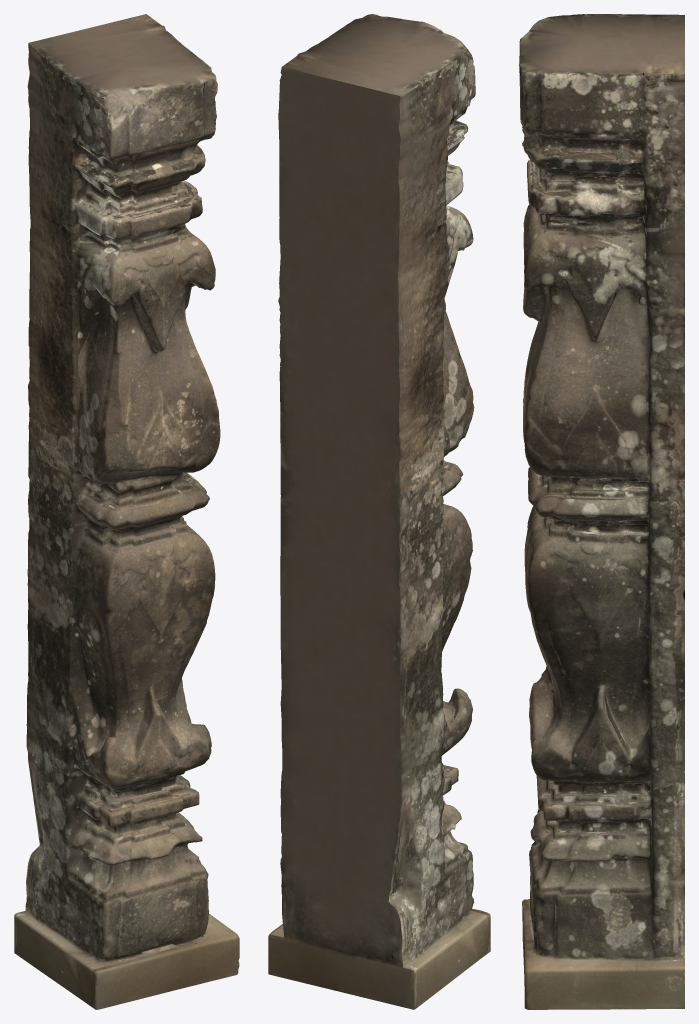
The model's file is MysonMuseum_trucuaD2_final.glb.
3 views of the same model, side by side, from view 1: azimuth 30°, elevation 25°; view 2: azimuth 150°, elevation 25°; view 3: azimuth 270°, elevation 25° (orthographic). The views are drawn at different scales.
Bounding box in the file's own units: 0.4023 × 2.36 × 0.3814.
1 material, 1 textured.
